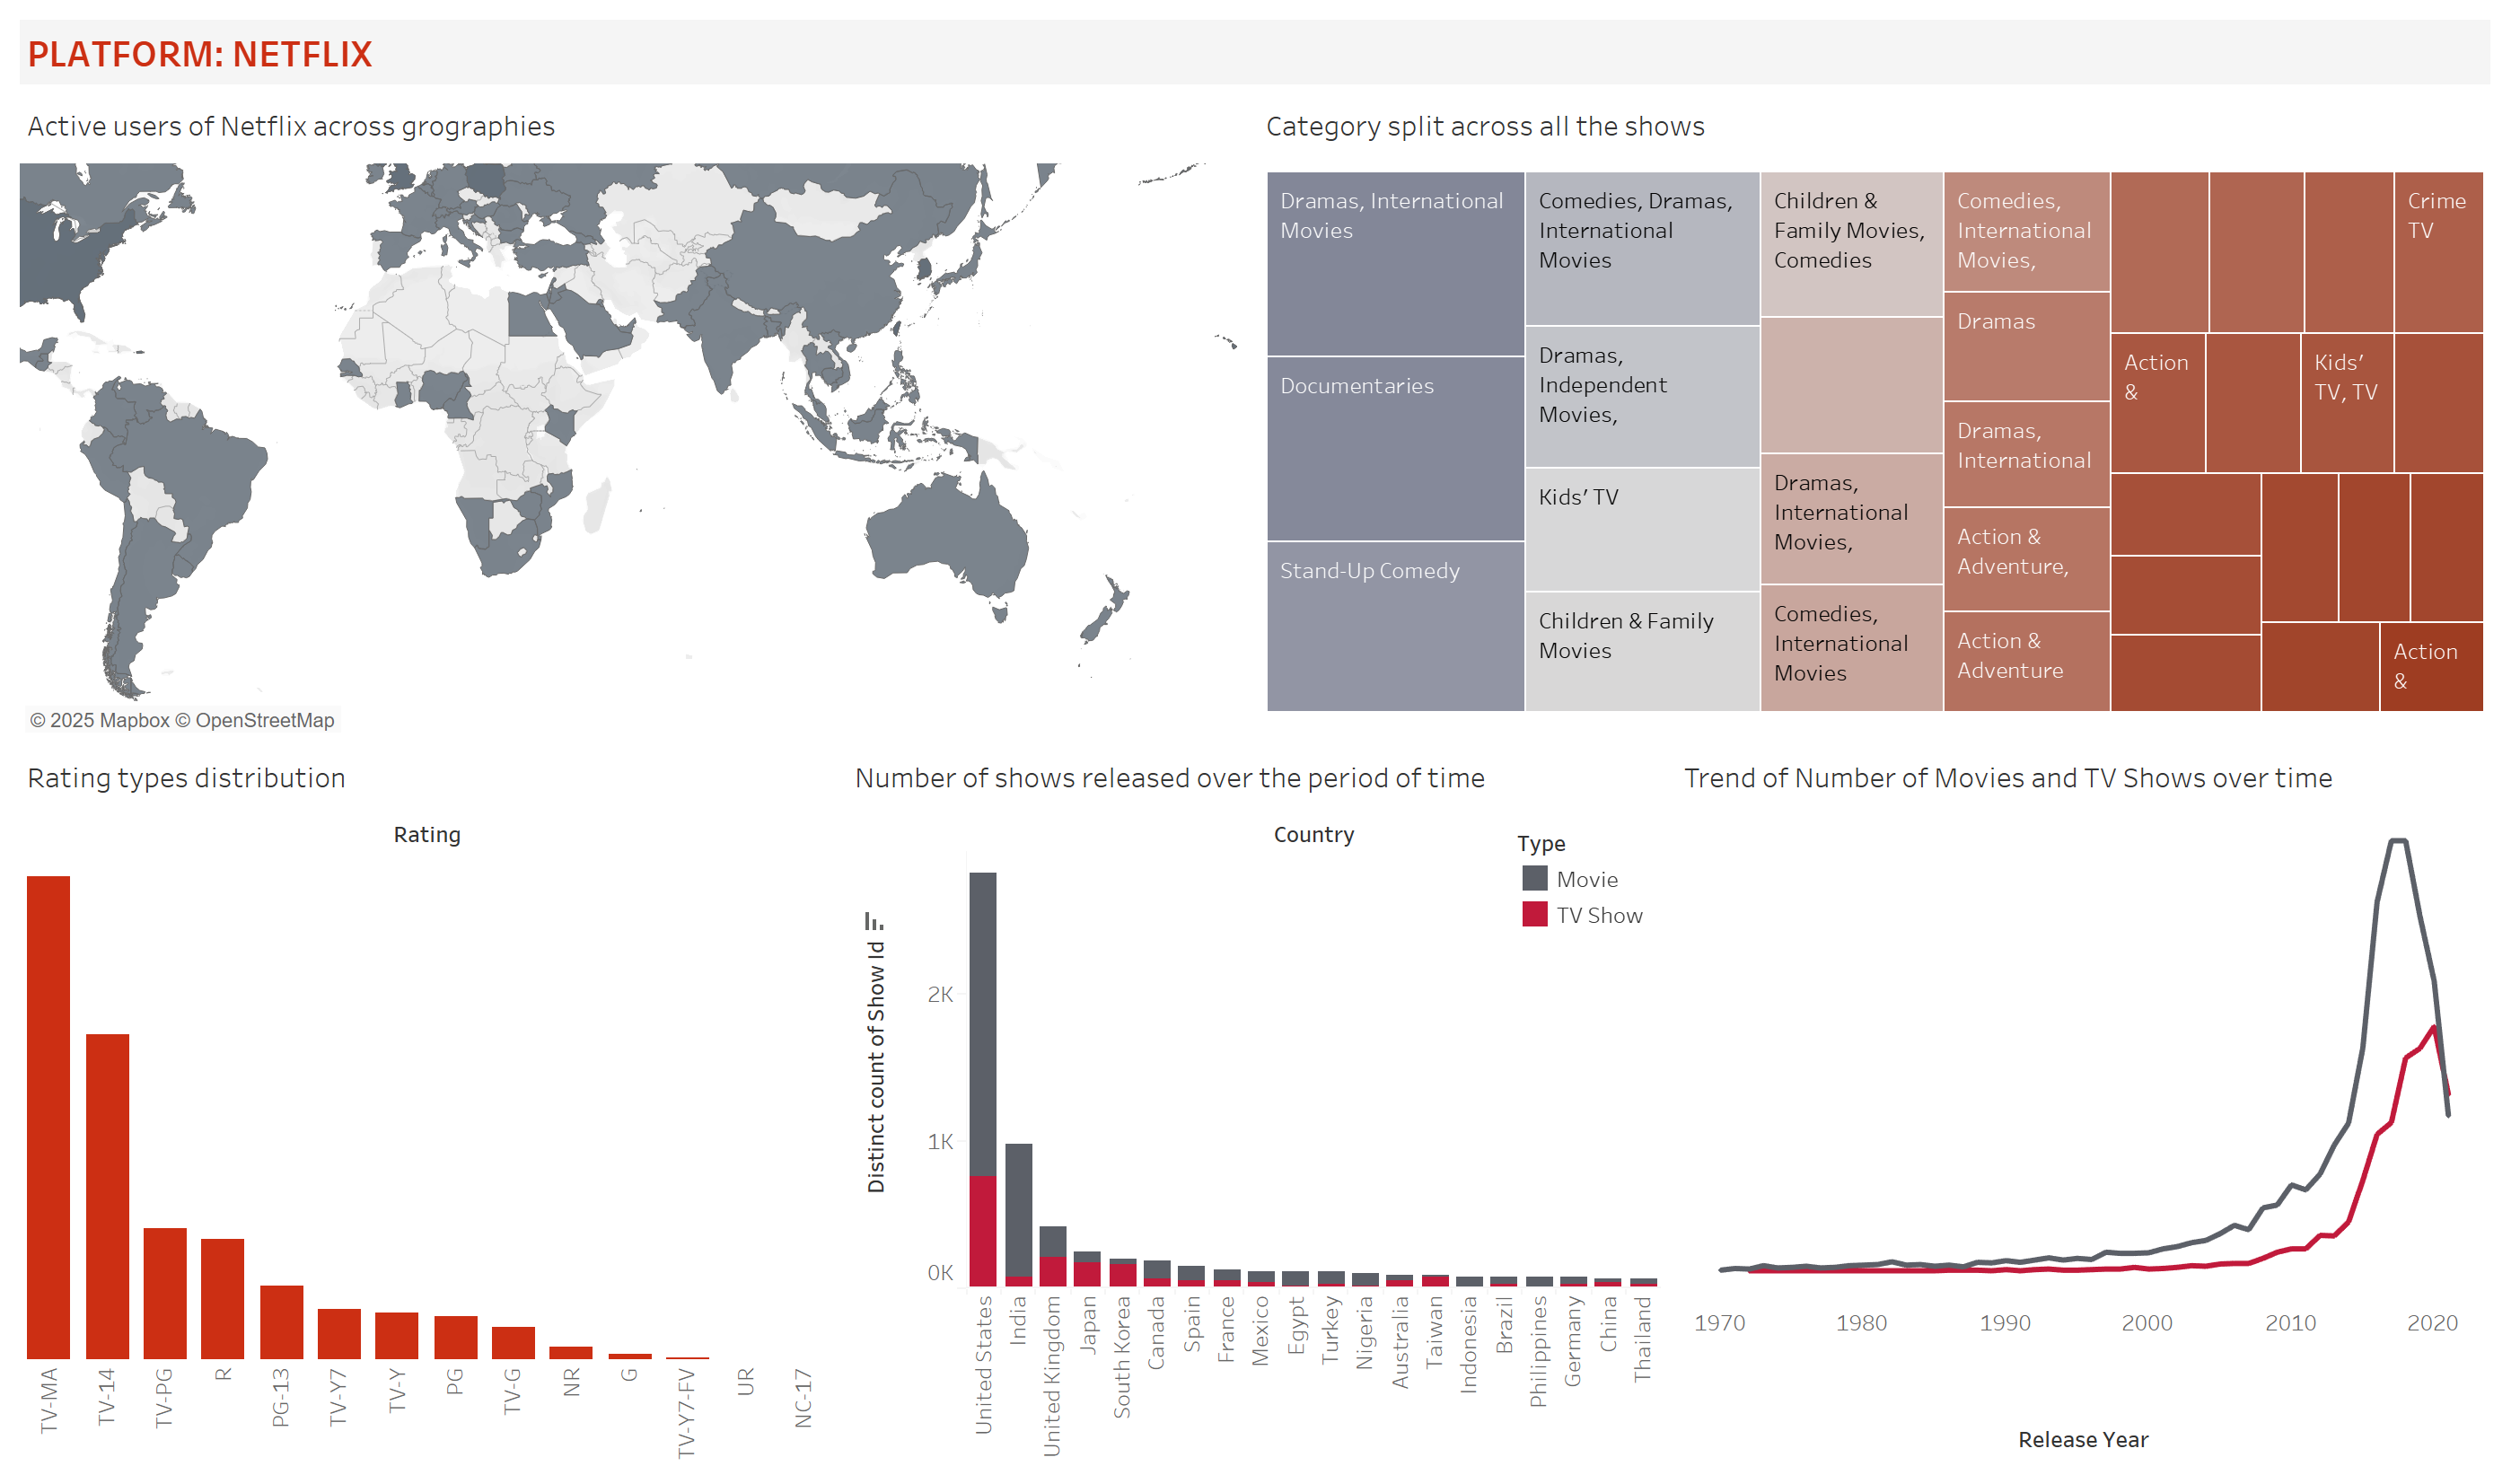

This screenshot's page, from the dashboard's own definition file:
{"tool":"tableau","page":{"name":"Netflix","canvas":[1000,1000],"units":"permille","ordinal":0},"visuals":[{"type":"worksheet","title":"NF","mark":"Automatic","box":[5.7,10,988.6,52.5]},{"type":"worksheet","title":"NF-1","mark":"Multipolygon","box":[5.7,62.5,492.9,437.5]},{"type":"worksheet","title":"NF-4","mark":"Automatic","box":[498.6,62.5,495.7,437.5]},{"type":"worksheet","title":"NF-3","mark":"Automatic","rows":["show_id"],"cols":["rating"],"box":[5.7,500,329.5,490]},{"type":"worksheet","title":"NF-2","mark":"Automatic","rows":["show_id"],"cols":["country"],"box":[335.2,500,329.5,490]},{"type":"worksheet","title":"NF-5","mark":"Automatic","rows":["show_id"],"cols":["release_year"],"box":[664.8,500,329.5,490]},{"type":"legend","title":"NF-5","param":"[federated.0z2n31p0xheoz017tarfo1vd6udq].[none:type:nk]","box":[604.3,556.2,60.7,82.5]}]}

Visuals, with their boxes on the dashboard's canvas, which has no fixed pixel size, in thousandths of its width and height (x1, y1, x2, y2). These are canvas units, not pixel positions in the 2520x1475 screenshot, which may show the page scaled, cropped or inside an application window:
"NF" worksheet: [x1=6, y1=10, x2=994, y2=62]
"NF-1" worksheet (Multipolygon marks): [x1=6, y1=62, x2=499, y2=500]
"NF-4" worksheet: [x1=499, y1=62, x2=994, y2=500]
"NF-3" worksheet: [x1=6, y1=500, x2=335, y2=990]
"NF-2" worksheet: [x1=335, y1=500, x2=665, y2=990]
"NF-5" worksheet: [x1=665, y1=500, x2=994, y2=990]
"NF-5" legend: [x1=604, y1=556, x2=665, y2=639]
